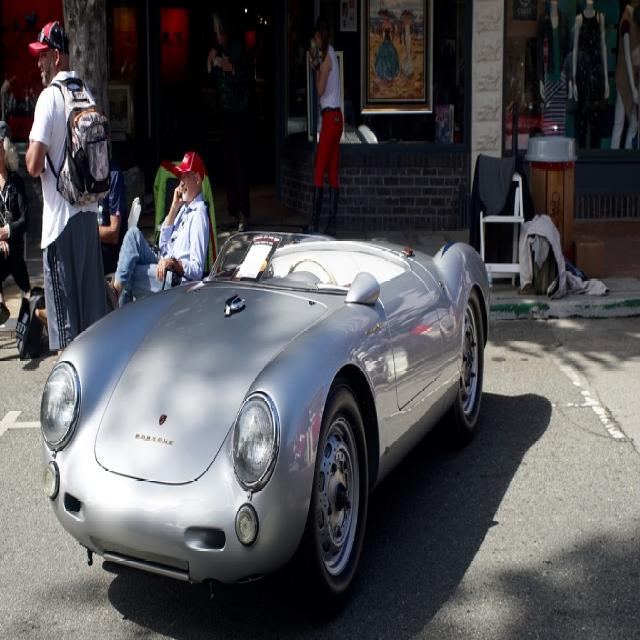car: (39, 214, 488, 595)
